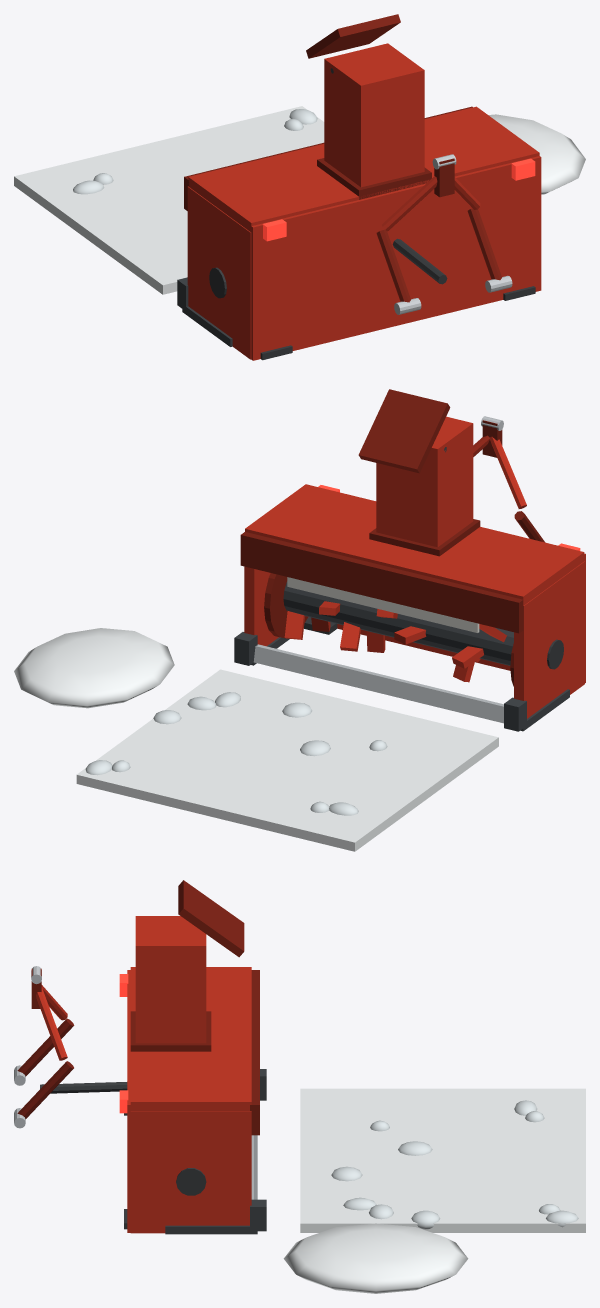
Rendered from snow_blower.glb.
3 views of the same model, one above another, from view 1: azimuth 30°, elevation 25°; view 2: azimuth 150°, elevation 25°; view 3: azimuth 270°, elevation 25° (orthographic). The views are drawn at different scales.
Visible parts, largest first — view 1: SnowBody, SnowProps; view 2: SnowBody, SnowProps, AugerUnit; view 3: SnowProps, SnowBody.
Boxes of the visible parts, left/top/right/bottom form: SnowBody: left=177, top=14, right=541, bottom=360; SnowProps: left=14, top=106, right=585, bottom=294; SnowBody: left=234, top=389, right=585, bottom=731; SnowProps: left=14, top=628, right=498, bottom=851; AugerUnit: left=264, top=573, right=513, bottom=686; SnowProps: left=283, top=1088, right=585, bottom=1293; SnowBody: left=14, top=880, right=266, bottom=1234.
Bounding box in the file's own units: 2.97 × 1.78 × 3.4.
